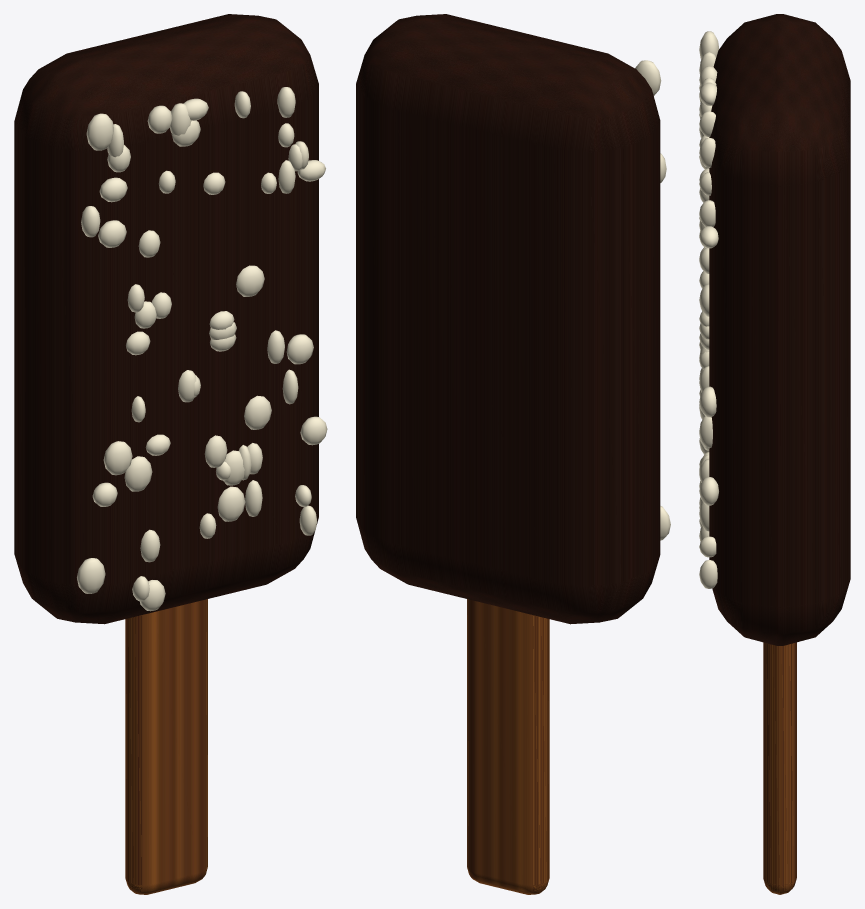
Rendered from 05_Chocolate_Bar.glb.
3 views of the same model, side by side, from view 1: azimuth 30°, elevation 25°; view 2: azimuth 150°, elevation 25°; view 3: azimuth 270°, elevation 25° (orthographic). The views are drawn at different scales.
Parts seen in each view (by area): view 1: SM_Chocolate coated ice cream, SM_Maple stick, SM_Almond fragment.013, SM_Almond fragment.038, SM_Almond fragment.040, SM_Almond fragment.043, SM_Almond fragment.028, SM_Almond fragment.045, SM_Almond fragment.030, SM_Almond fragment.012; view 2: SM_Chocolate coated ice cream, SM_Maple stick; view 3: SM_Chocolate coated ice cream, SM_Maple stick, SM_Almond fragment.016, SM_Almond fragment.021, SM_Almond fragment.012, SM_Almond fragment.013, SM_Almond fragment.050, SM_Almond fragment.014, SM_Almond fragment.029, SM_Almond fragment.044, SM_Almond fragment.027.
Part boxes in pixels (x1,y1,x2,y2): SM_Chocolate coated ice cream: [14, 14, 318, 624]; SM_Maple stick: [125, 599, 207, 894]; SM_Almond fragment.013: [86, 113, 113, 150]; SM_Almond fragment.038: [77, 558, 105, 593]; SM_Almond fragment.040: [103, 441, 132, 475]; SM_Almond fragment.043: [217, 486, 245, 521]; SM_Almond fragment.028: [124, 456, 152, 491]; SM_Almond fragment.045: [244, 395, 271, 429]; SM_Almond fragment.030: [236, 265, 264, 296]; SM_Almond fragment.012: [286, 334, 313, 364]; SM_Chocolate coated ice cream: [356, 14, 660, 624]; SM_Maple stick: [467, 599, 549, 894]; SM_Chocolate coated ice cream: [709, 14, 850, 645]; SM_Maple stick: [763, 642, 796, 894]; SM_Almond fragment.016: [699, 477, 718, 505]; SM_Almond fragment.021: [699, 560, 717, 588]; SM_Almond fragment.012: [699, 386, 716, 417]; SM_Almond fragment.013: [699, 31, 719, 59]; SM_Almond fragment.050: [699, 138, 715, 167]; SM_Almond fragment.014: [699, 200, 715, 226]; SM_Almond fragment.029: [699, 416, 712, 448]; SM_Almond fragment.044: [699, 226, 718, 248]; SM_Almond fragment.027: [699, 82, 716, 105].
Size of the model in its own units: 0.047 by 0.135 by 0.0225.
Materials: 3 (2 with a texture image).
